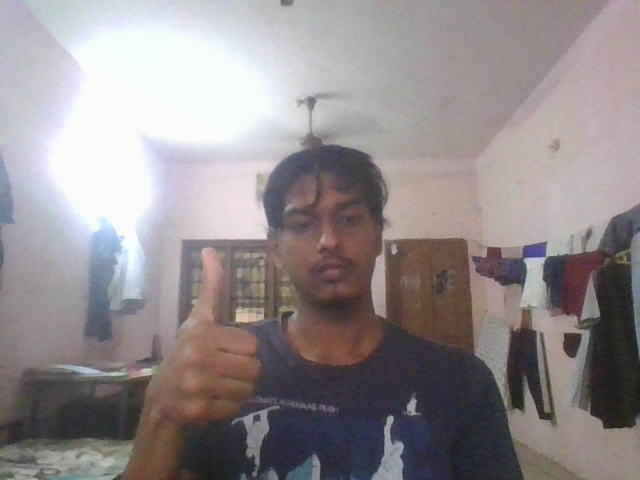thumbsup: (146, 243, 265, 444)
